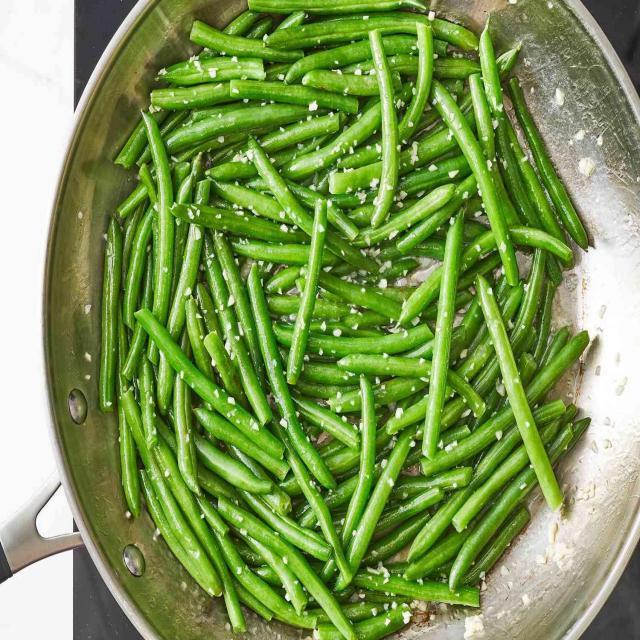Beans: (86, 0, 592, 633)
